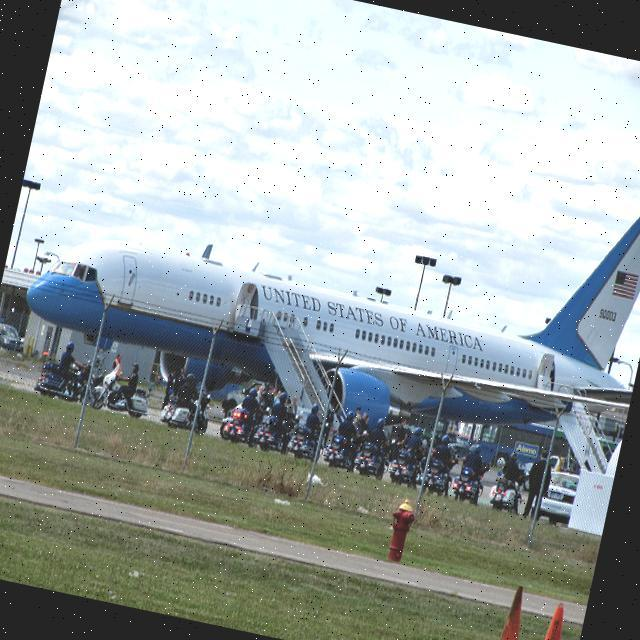fire_hydrant: (382, 496, 418, 563)
